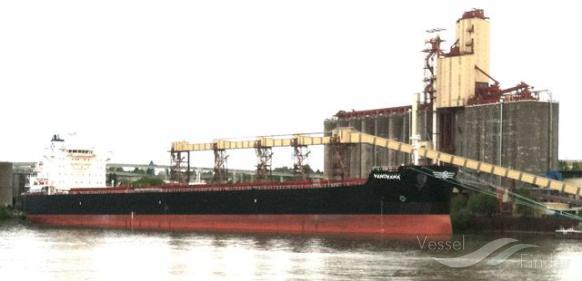OCR: (369, 168, 405, 181)
